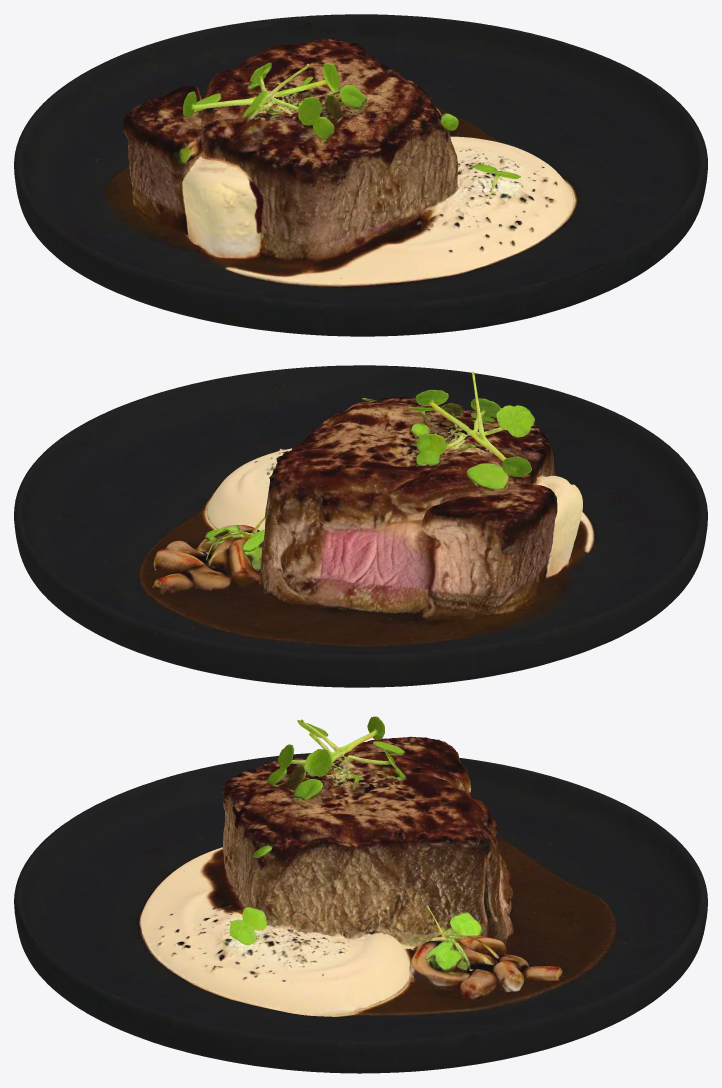
The model's file is pave-boeuf-meshopt-9e10c3a6.glb.
3 renders of one model, top to bottom at view 1: azimuth 30°, elevation 25°; view 2: azimuth 150°, elevation 25°; view 3: azimuth 270°, elevation 25°, orthographic.
Bounding box in the file's own units: 1.9 × 0.6475 × 1.9.
Materials: 1 (1 with a texture image).
